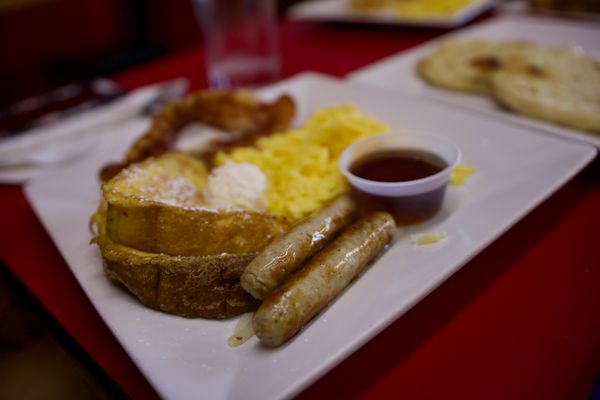pizza: (190, 0, 284, 89)
sushi: (338, 127, 461, 224)
